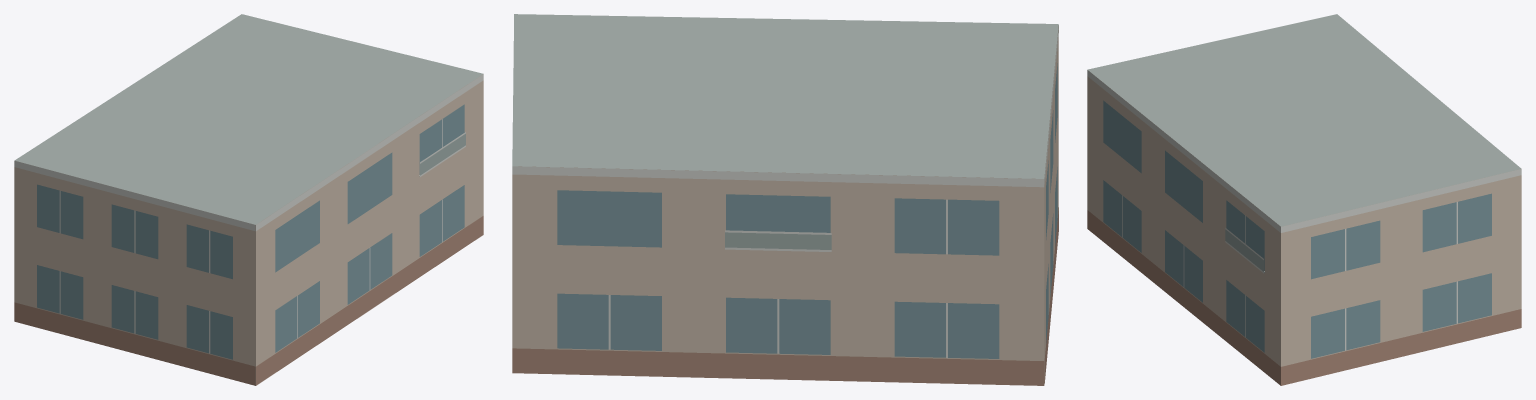
File: survey-upis-32640500.glb
3 renders of one model, left to right at view 1: azimuth 30°, elevation 25°; view 2: azimuth 150°, elevation 25°; view 3: azimuth 270°, elevation 25°, orthographic. The views are drawn at different scales.
Parts seen in each view (by area): view 1: survey-upis-32640500.tmp; view 2: survey-upis-32640500.tmp; view 3: survey-upis-32640500.tmp.
Boxes of the visible parts, <box> form: survey-upis-32640500.tmp: <box>14,14,483,385</box>; survey-upis-32640500.tmp: <box>512,14,1058,385</box>; survey-upis-32640500.tmp: <box>1087,14,1521,385</box>.
Size of the model in its own units: 17.5 by 6.1 by 15.1.
